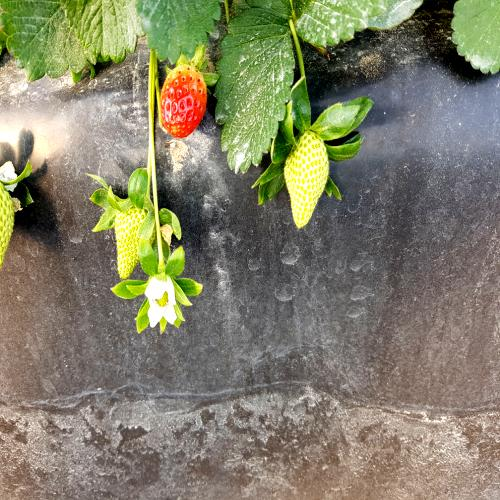ripe: (156, 56, 210, 148)
unripe: (282, 121, 330, 237)
